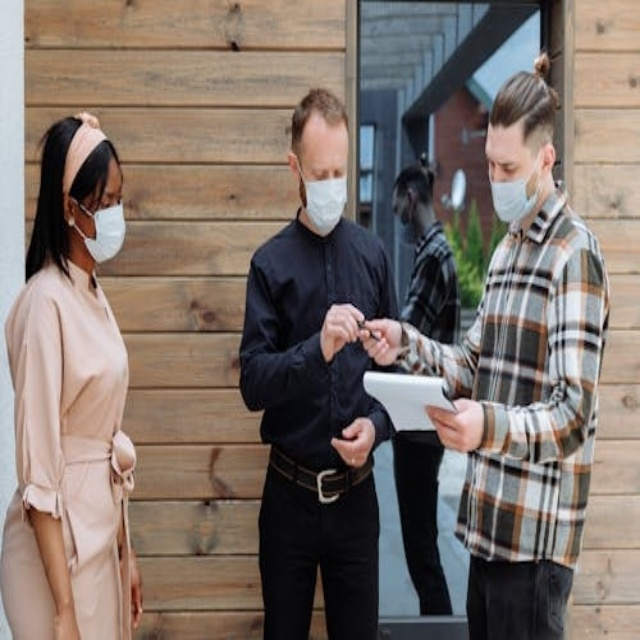Mascara: (489, 154, 543, 224), (296, 162, 347, 233), (73, 197, 127, 264), (399, 204, 423, 247)
Sin_gafas: (483, 146, 525, 181), (300, 156, 348, 183), (87, 179, 124, 209)
Sin_guantes: (423, 397, 486, 455), (321, 294, 364, 363), (118, 544, 148, 634), (356, 316, 408, 367), (332, 416, 376, 472)
